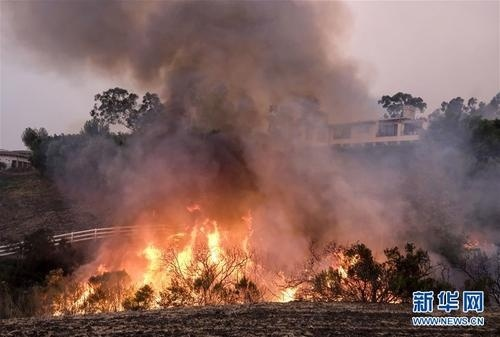fire: (52, 203, 267, 311), (278, 245, 403, 306), (461, 227, 499, 254)
